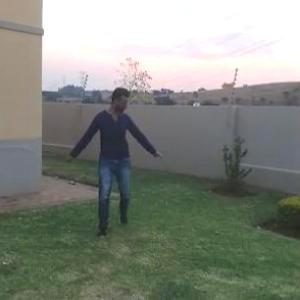land: (66, 89, 162, 238)
